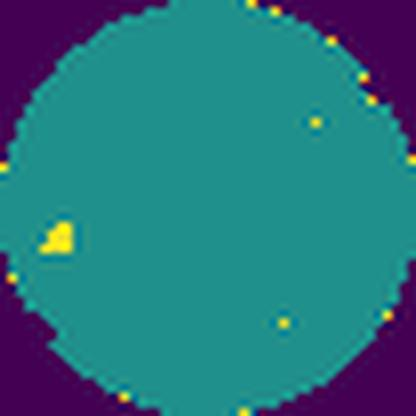Loc: (41, 223, 74, 259)
